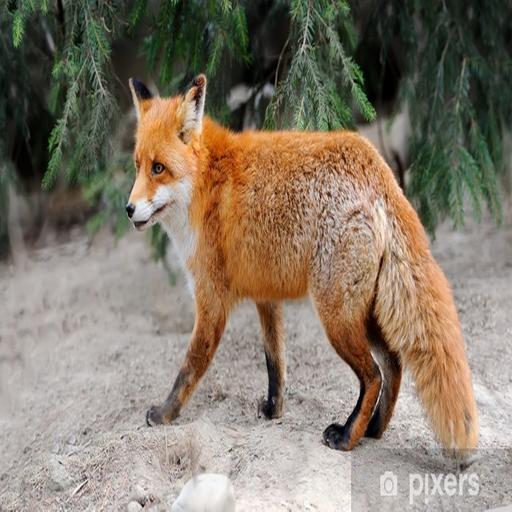Fox: (111, 69, 495, 478)
